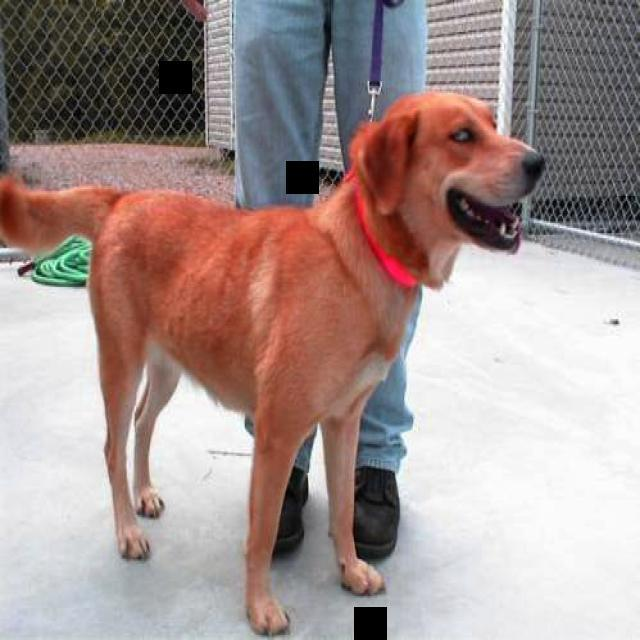adult_dog: (0, 89, 548, 639)
